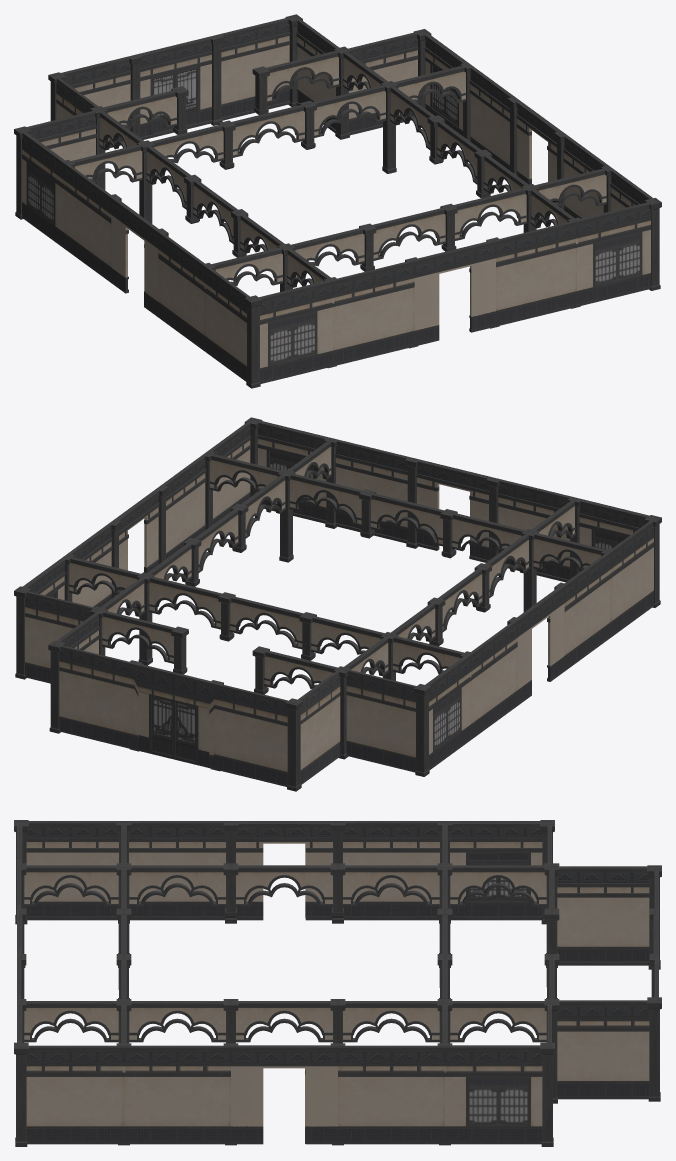
Rendered from Homeworld_Interior_Dq_Room_P_Wall_01_Vo.fbx.
The picture shows the model from 3 angles, top to bottom: view 1: azimuth 30°, elevation 25°; view 2: azimuth 150°, elevation 25°; view 3: azimuth 270°, elevation 25°; orthographic projection. The views are drawn at different scales.
Parts seen in each view (by area): view 1: Homeworld_Interior_Dq_Room_Wall_01_Vo (×13), Homeworld_Interior_Dq_Room_Wall_03_Vo (×22), Homeworld_Interior_Dq_Room_Wall_02_Vo (×4), Homeworld_Interior_Dq_Room_Wall_06_Vo (×3), Homeworld_Interior_Dq_Room_P_Filling_01_Vo, Homeworld_Interior_Dq_Room_Pillar_01_Vo (×7), Homeworld_Interior_Dq_Room_Wall_07_Vo, Homeworld_Interior_Dq_Room_Pillar_02_Vo (×3), Homeworld_Interior_Dq_Room_Pillar_03_Vo (×3); view 2: Homeworld_Interior_Dq_Room_Wall_03_Vo (×22), Homeworld_Interior_Dq_Room_P_Filling_01_Vo, Homeworld_Interior_Dq_Room_Wall_01_Vo (×9), Homeworld_Interior_Dq_Room_Wall_02_Vo (×4), Homeworld_Interior_Dq_Room_Wall_06_Vo (×3), Homeworld_Interior_Dq_Room_Pillar_01_Vo (×9), Homeworld_Interior_Dq_Room_Wall_07_Vo, Homeworld_Interior_Dq_Room_Pillar_03_Vo (×5), Homeworld_Interior_Dq_Room_Pillar_02_Vo (×4); view 3: Homeworld_Interior_Dq_Room_Wall_01_Vo (×8), Homeworld_Interior_Dq_Room_Wall_03_Vo (×10), Homeworld_Interior_Dq_Room_Wall_02_Vo (×2), Homeworld_Interior_Dq_Room_Wall_06_Vo (×2), Homeworld_Interior_Dq_Room_P_Filling_01_Vo, Homeworld_Interior_Dq_Room_Pillar_01_Vo (×8), Homeworld_Interior_Dq_Room_Pillar_03_Vo (×5), Homeworld_Interior_Dq_Room_Pillar_02_Vo (×2).
Part boxes in pixels (x1,y1,x2,y2): Homeworld_Interior_Dq_Room_Wall_01_Vo (×13): (27,18,652,381); Homeworld_Interior_Dq_Room_Wall_03_Vo (×22): (64,50,606,303); Homeworld_Interior_Dq_Room_Wall_02_Vo (×4): (22,34,650,383); Homeworld_Interior_Dq_Room_Wall_06_Vo (×3): (111,99,563,346); Homeworld_Interior_Dq_Room_P_Filling_01_Vo: (18,15,657,365); Homeworld_Interior_Dq_Room_Pillar_01_Vo (×7): (14,14,661,388); Homeworld_Interior_Dq_Room_Wall_07_Vo: (133,35,214,139); Homeworld_Interior_Dq_Room_Pillar_02_Vo (×3): (129,35,518,175); Homeworld_Interior_Dq_Room_Pillar_03_Vo (×3): (218,66,316,169); Homeworld_Interior_Dq_Room_Wall_03_Vo (×22): (69,439,611,689); Homeworld_Interior_Dq_Room_P_Filling_01_Vo: (17,418,657,786); Homeworld_Interior_Dq_Room_Wall_01_Vo (×9): (57,422,653,739); Homeworld_Interior_Dq_Room_Wall_02_Vo (×4): (23,421,649,769); Homeworld_Interior_Dq_Room_Wall_06_Vo (×3): (111,458,564,705); Homeworld_Interior_Dq_Room_Pillar_01_Vo (×9): (14,469,661,791); Homeworld_Interior_Dq_Room_Wall_07_Vo: (134,664,214,768); Homeworld_Interior_Dq_Room_Pillar_03_Vo (×5): (171,489,457,674); Homeworld_Interior_Dq_Room_Pillar_02_Vo (×4): (157,438,499,563); Homeworld_Interior_Dq_Room_Wall_01_Vo (×8): (26,821,649,1144); Homeworld_Interior_Dq_Room_Wall_03_Vo (×10): (17,865,546,1042); Homeworld_Interior_Dq_Room_Wall_02_Vo (×2): (445,821,542,1144); Homeworld_Interior_Dq_Room_Wall_06_Vo (×2): (231,821,337,1144); Homeworld_Interior_Dq_Room_P_Filling_01_Vo: (17,821,658,1143); Homeworld_Interior_Dq_Room_Pillar_01_Vo (×8): (14,863,661,1146); Homeworld_Interior_Dq_Room_Pillar_03_Vo (×5): (223,863,559,1043); Homeworld_Interior_Dq_Room_Pillar_02_Vo (×2): (223,822,345,923).
Size of what is drawn, in the model's own units: 25.28 by 5.11 by 30.28.
